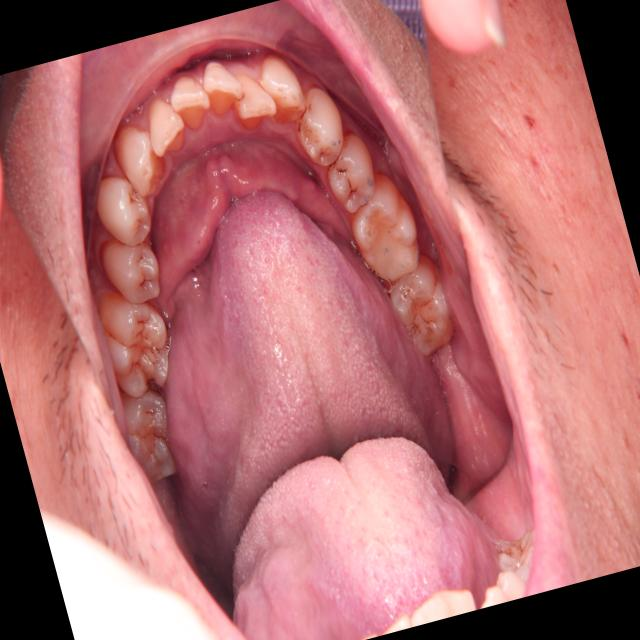tooth: (81, 269, 190, 407), (333, 161, 434, 291), (375, 246, 467, 367), (109, 375, 188, 490), (310, 118, 386, 222), (91, 220, 173, 313), (83, 161, 160, 257), (280, 79, 356, 175), (105, 110, 179, 204), (251, 48, 311, 129), (222, 59, 283, 137), (162, 66, 220, 141), (192, 49, 250, 122), (138, 91, 192, 162)
